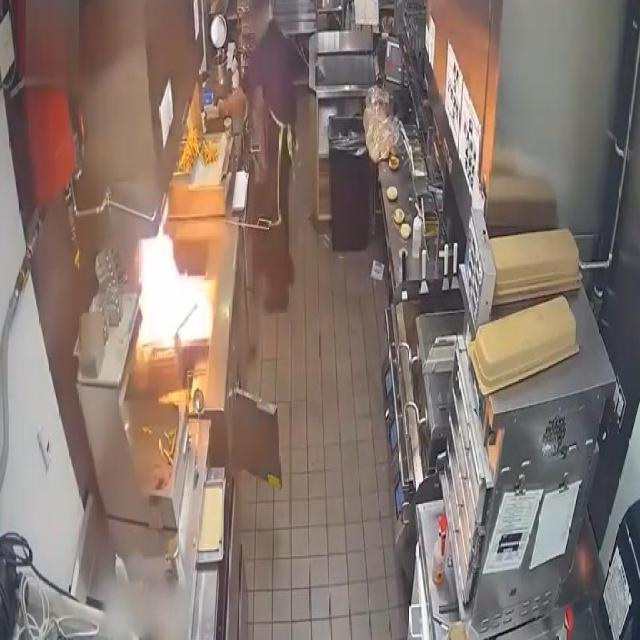smoke: (137, 218, 213, 358)
